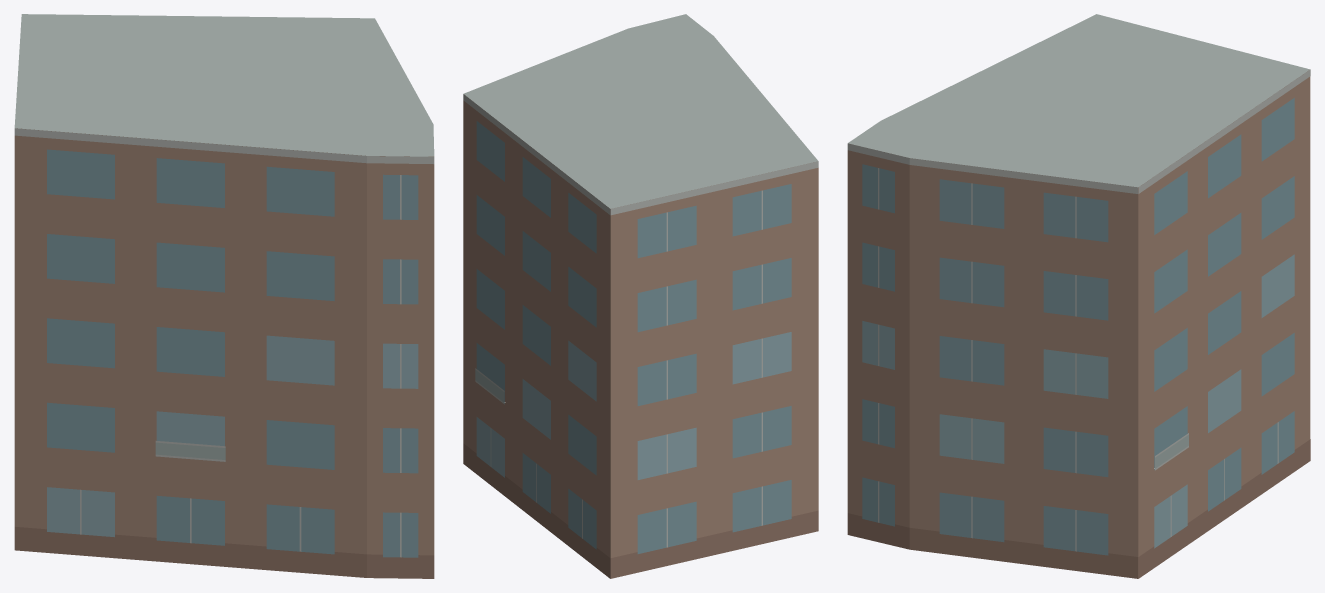
File: survey-upis-32720800.glb
3 views of the same model, side by side, from view 1: azimuth 30°, elevation 25°; view 2: azimuth 150°, elevation 25°; view 3: azimuth 270°, elevation 25° (orthographic). The views are drawn at different scales.
Parts seen in each view (by area): view 1: survey-upis-32720800.tmp; view 2: survey-upis-32720800.tmp; view 3: survey-upis-32720800.tmp.
Part boxes in pixels (box(x1,y1,x2,y2)): survey-upis-32720800.tmp: box(14, 14, 434, 578); survey-upis-32720800.tmp: box(463, 14, 818, 578); survey-upis-32720800.tmp: box(847, 14, 1310, 578).
Size of the model in its own units: 13.25 by 13.95 by 14.95.
